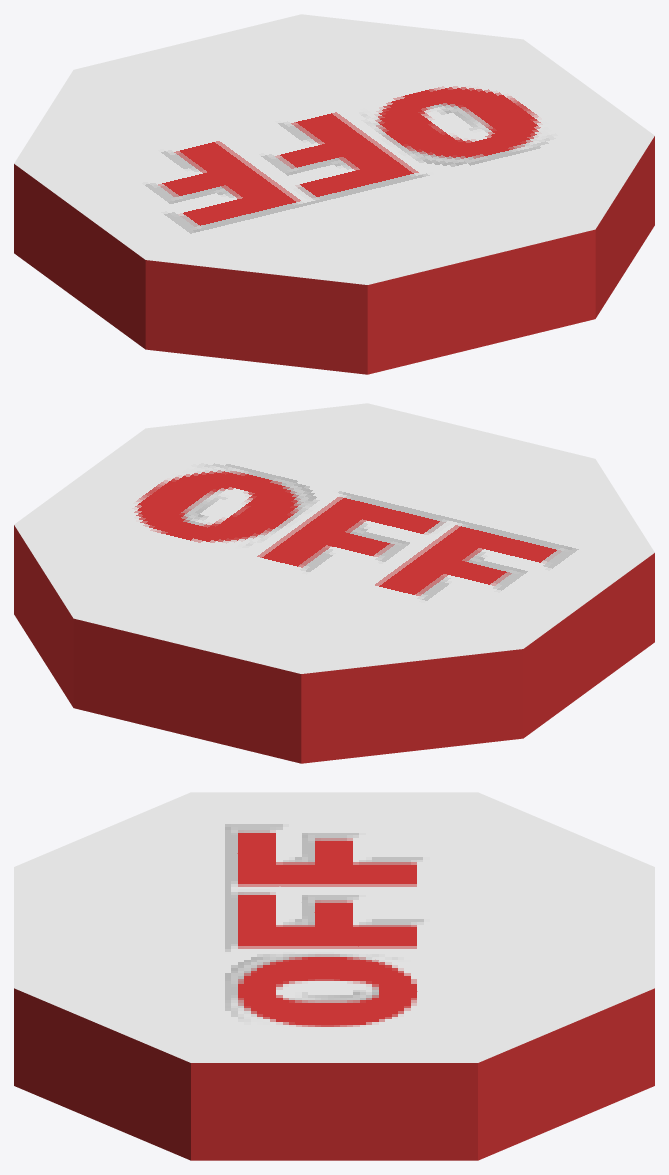
The model's file is off_button.glb.
The picture shows the model from 3 angles, top to bottom: view 1: azimuth 30°, elevation 25°; view 2: azimuth 150°, elevation 25°; view 3: azimuth 270°, elevation 25°; orthographic projection. The views are drawn at different scales.
Parts seen in each view (by area): view 1: off_btn; view 2: off_btn; view 3: off_btn.
Boxes of the visible parts, <box> form: off_btn: <box>14,14,654,374</box>; off_btn: <box>14,403,654,763</box>; off_btn: <box>14,792,654,1160</box>.
Bounding box in the file's own units: 0.0689 × 0.0116 × 0.0689.
Materials: 1 (1 with a texture image).
